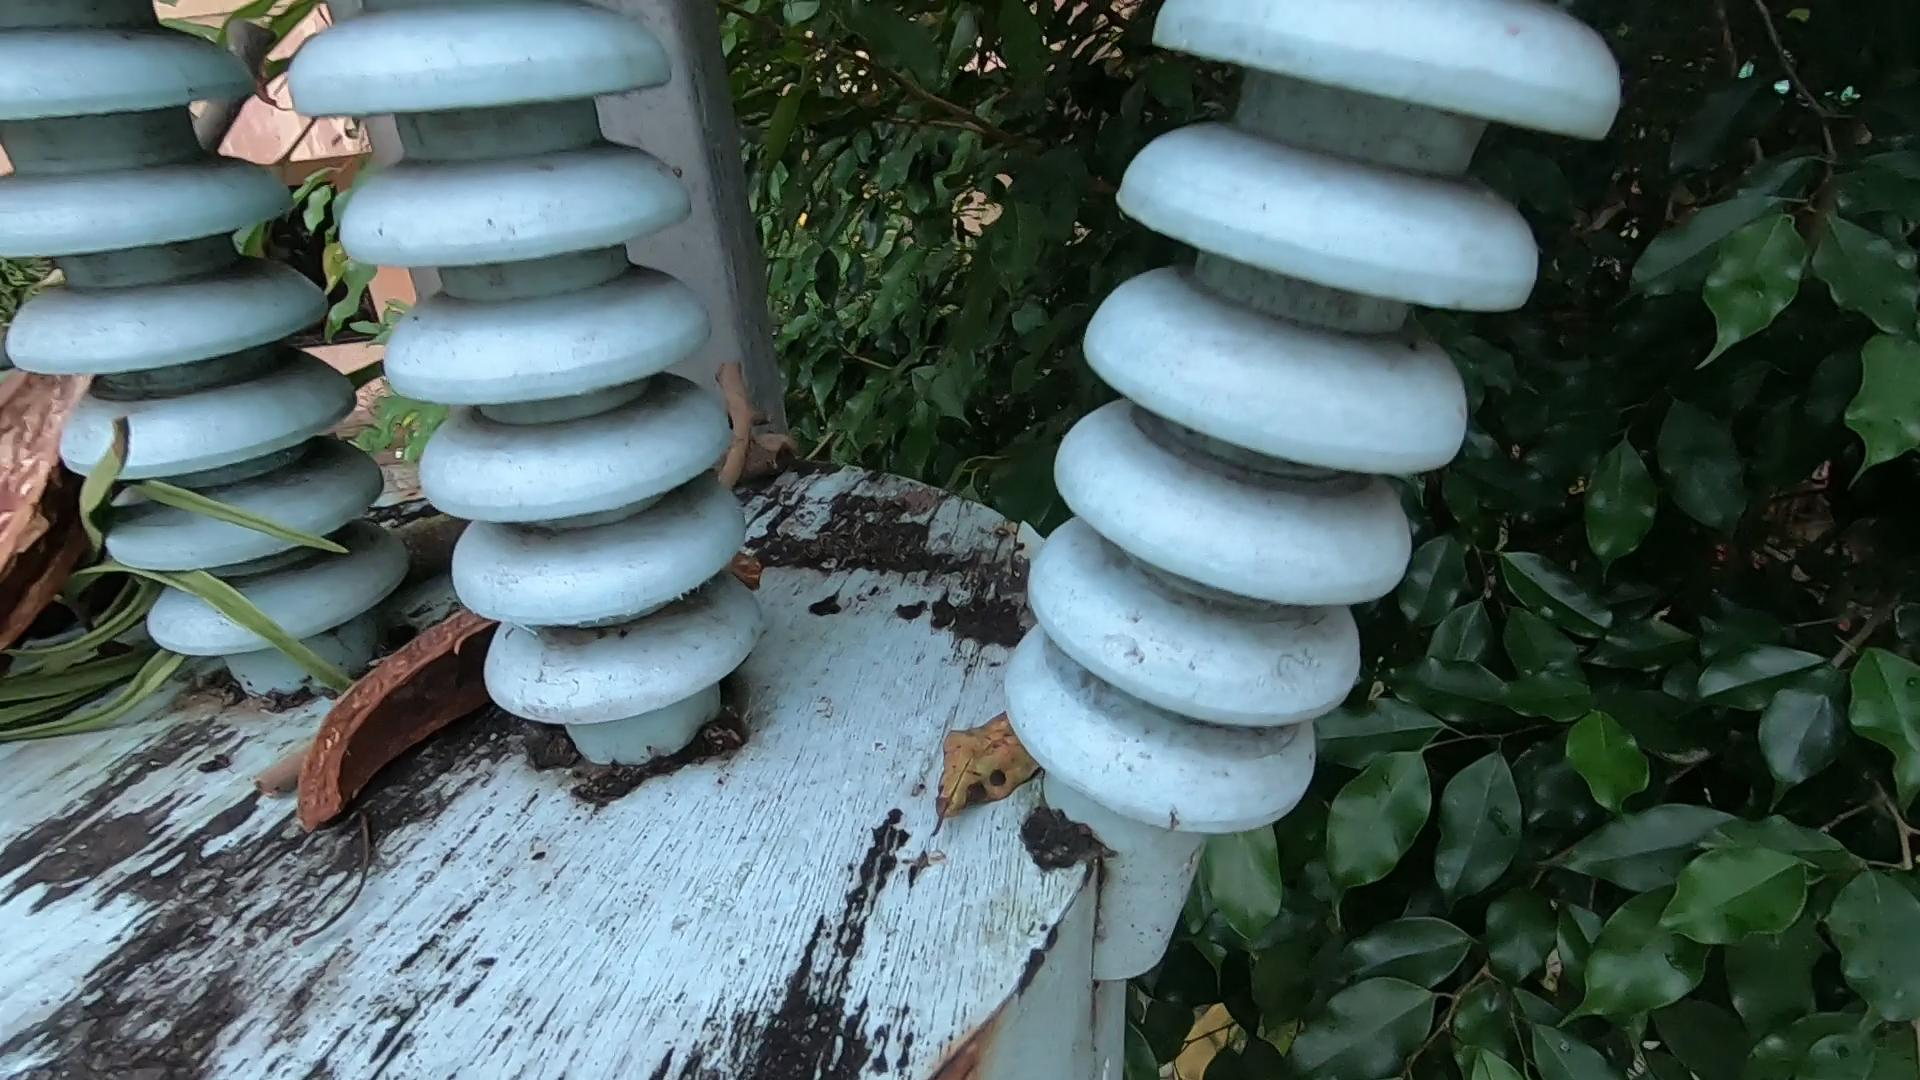branch with leaves: (1, 167, 508, 624)
leaf: (928, 705, 1065, 840)
mahogany fruit: (293, 584, 669, 913), (1, 282, 154, 687)
tree branch: (178, 18, 313, 223), (698, 336, 789, 535), (258, 707, 382, 844)
